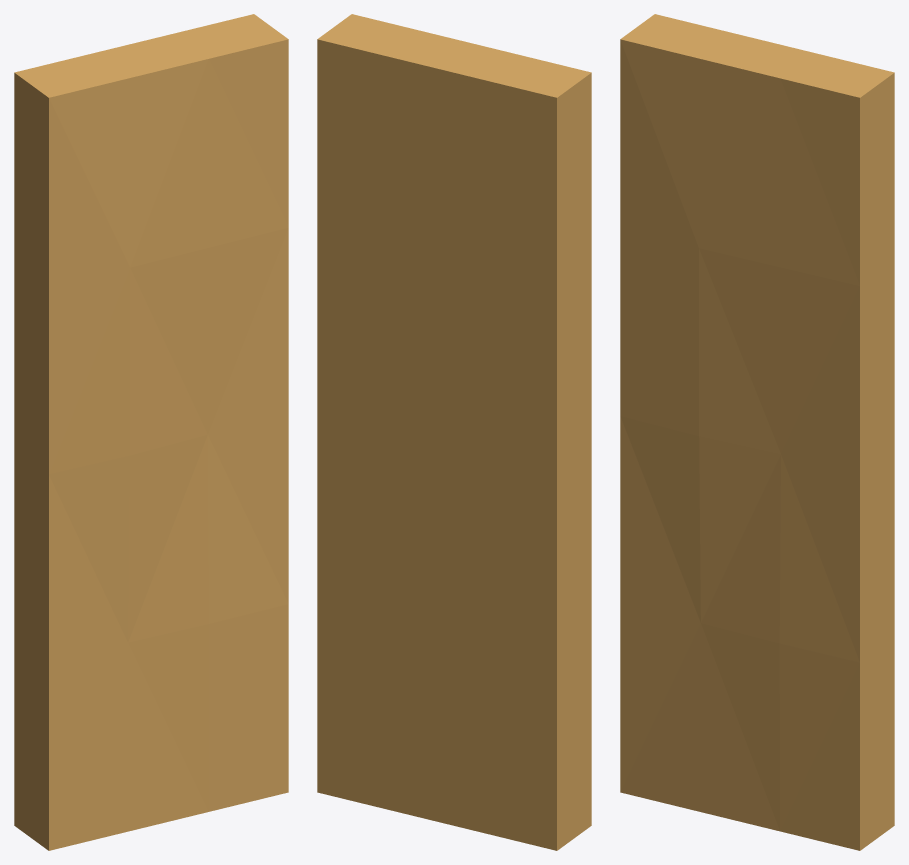
Rendered from SM_Wall_Panel_02.fbx.
The picture shows the model from 3 angles, left to right: view 1: azimuth 30°, elevation 25°; view 2: azimuth 150°, elevation 25°; view 3: azimuth 330°, elevation 25°; orthographic projection.
Parts seen in each view (by area): view 1: SM_Wall_Panel_02; view 2: SM_Wall_Panel_02; view 3: SM_Wall_Panel_02.
Boxes of the visible parts, x1,y1,x2,y2 form: SM_Wall_Panel_02: (14,14,288,850); SM_Wall_Panel_02: (317,14,591,850); SM_Wall_Panel_02: (620,14,894,850).
Bounding box in the file's own units: 1 × 3 × 0.2596.
1 material, 1 textured.
